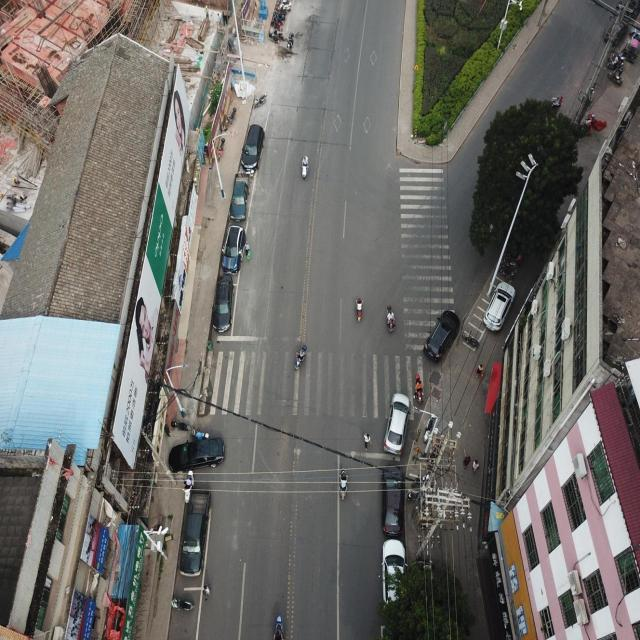p3rson: (201, 583, 211, 600), (462, 448, 470, 468), (362, 432, 370, 451), (216, 11, 224, 27), (182, 479, 193, 490), (203, 4, 210, 20), (472, 459, 479, 475), (243, 241, 250, 256), (476, 363, 482, 379), (18, 192, 28, 201), (163, 422, 170, 434), (13, 176, 19, 186)
